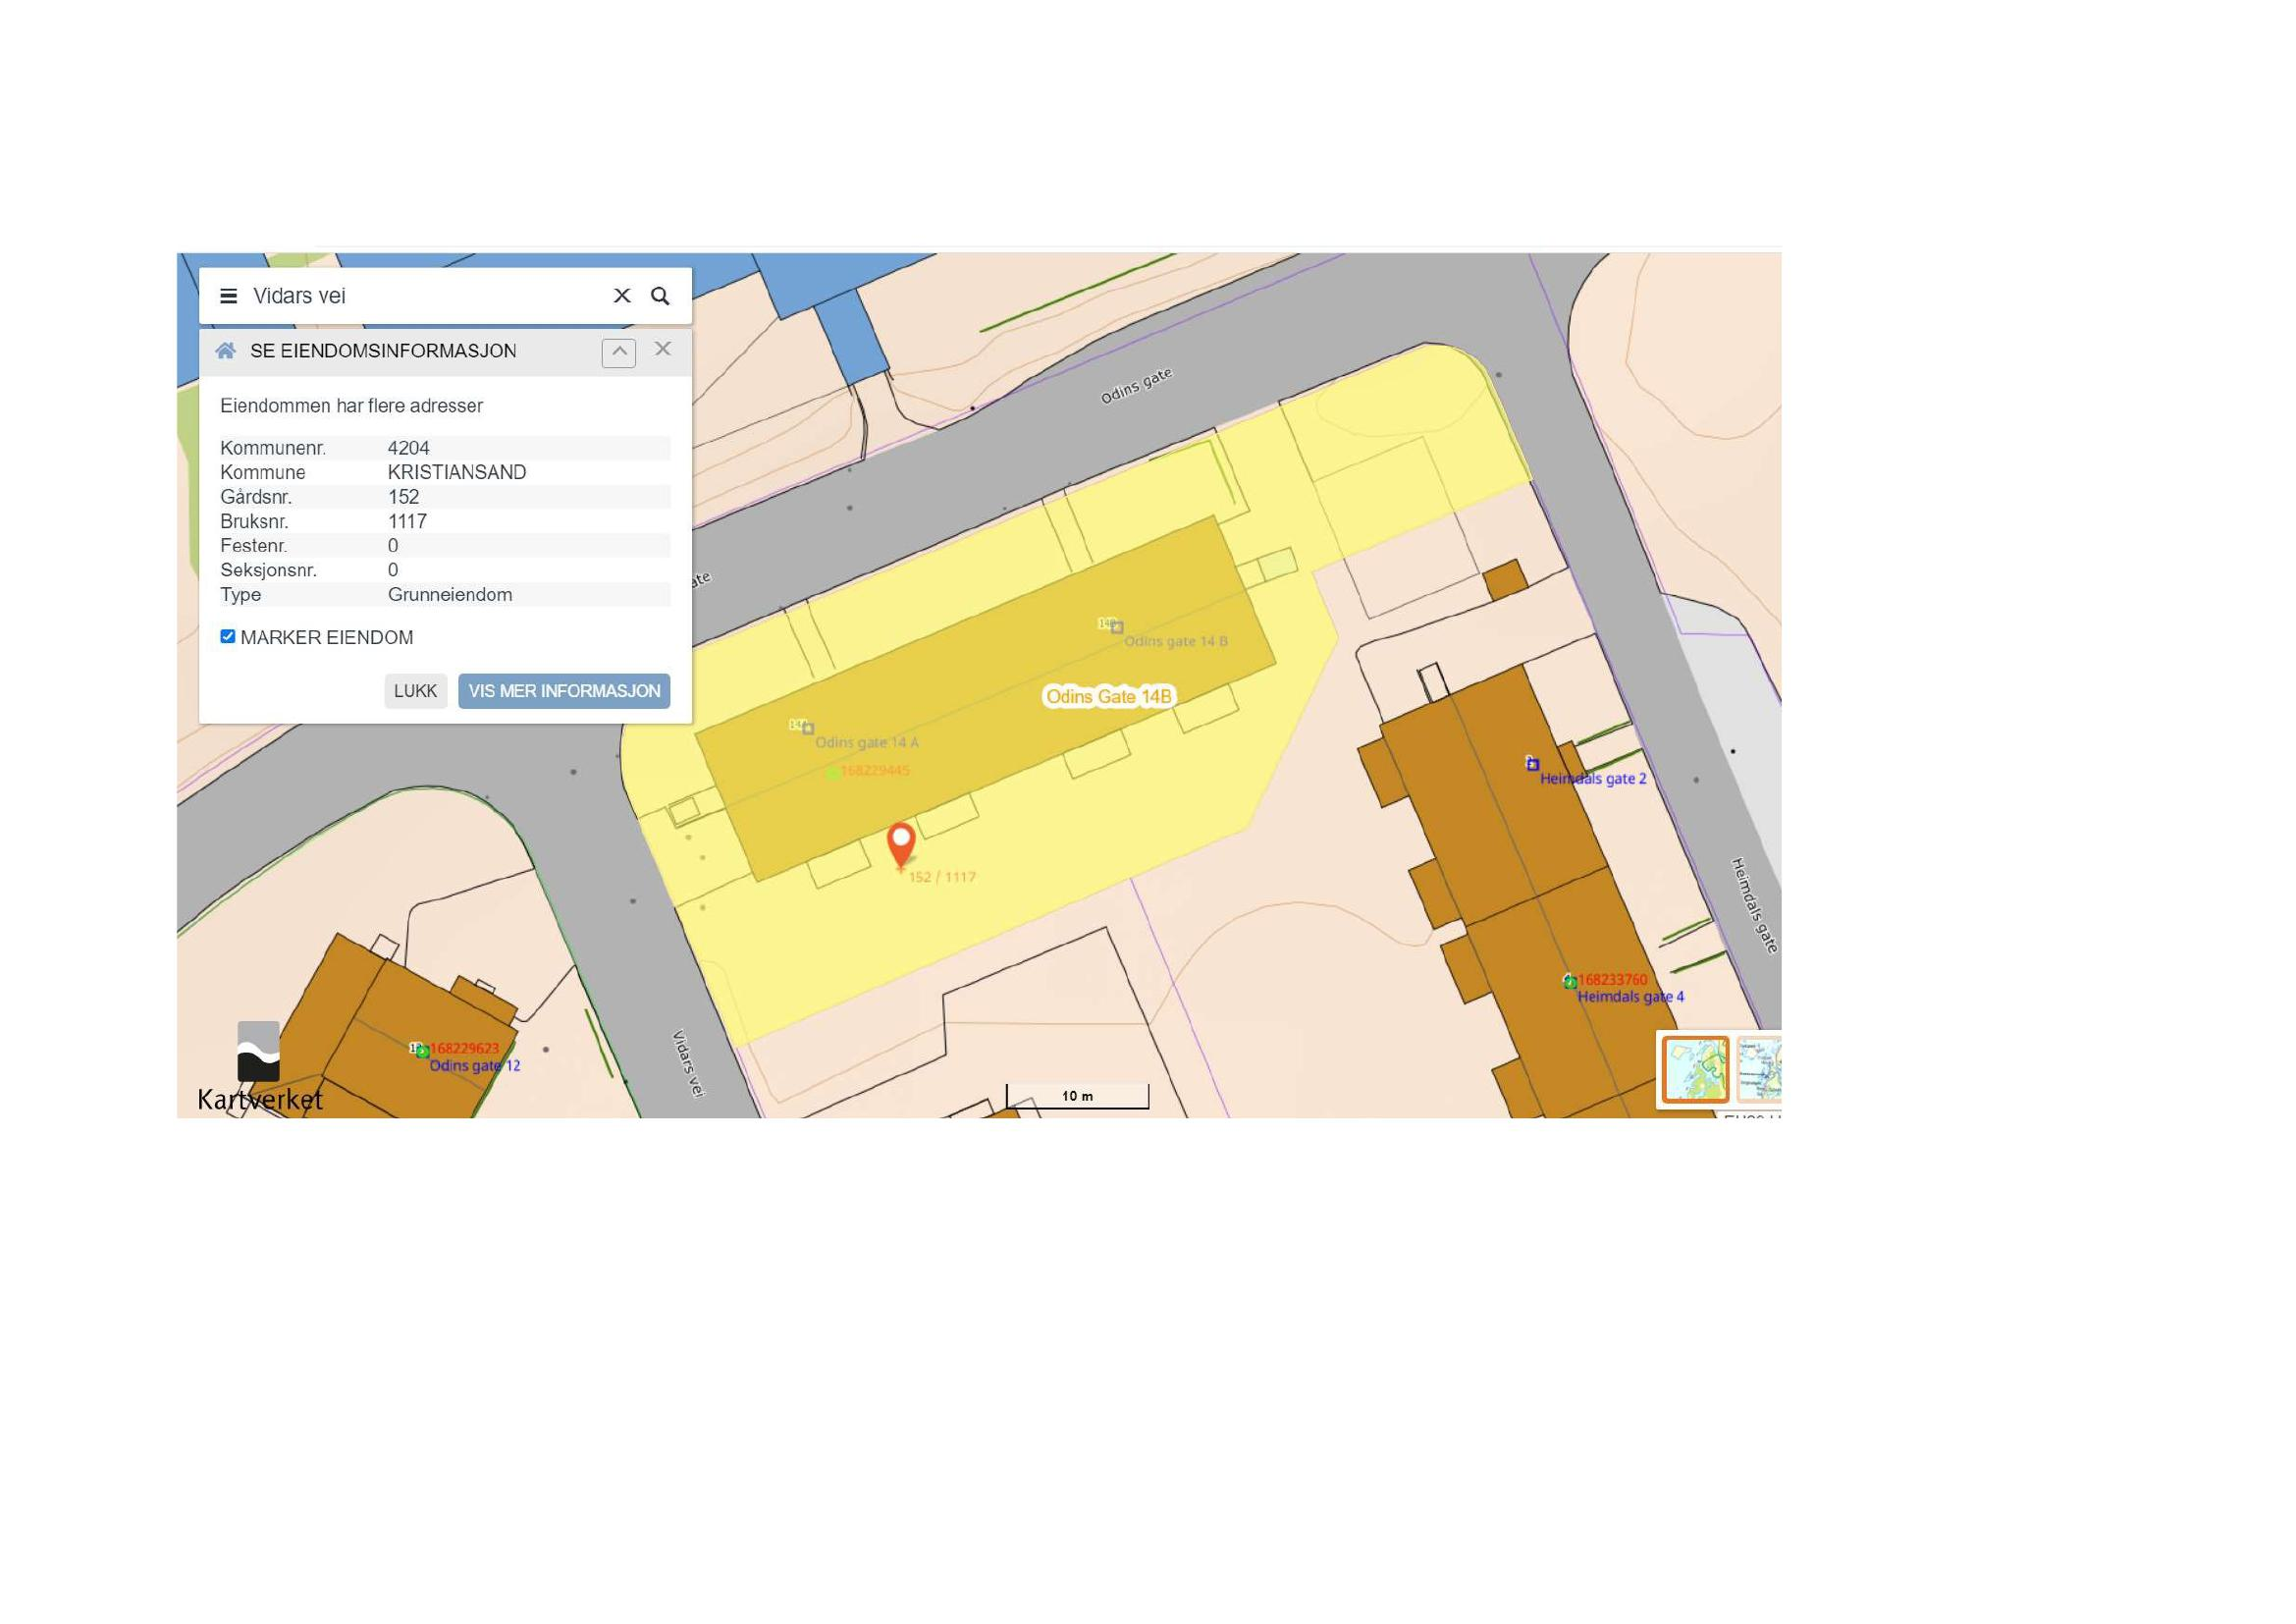situasjonskart: (177, 257, 1785, 1120)
